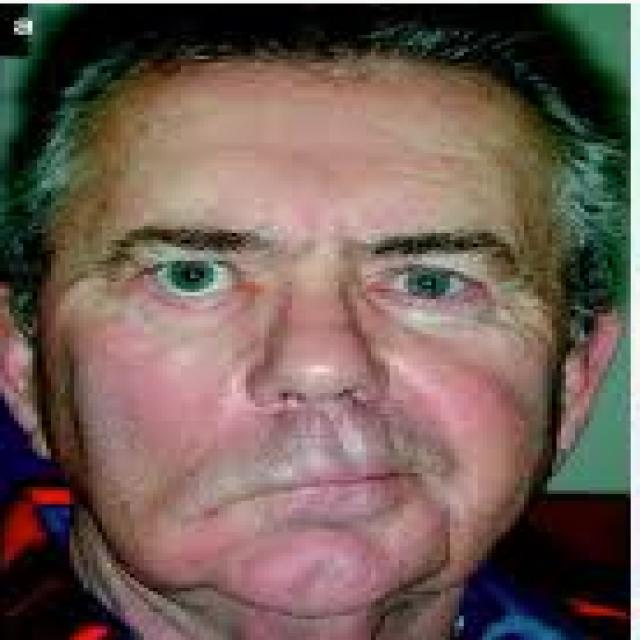stroke_face: (56, 52, 578, 608)
